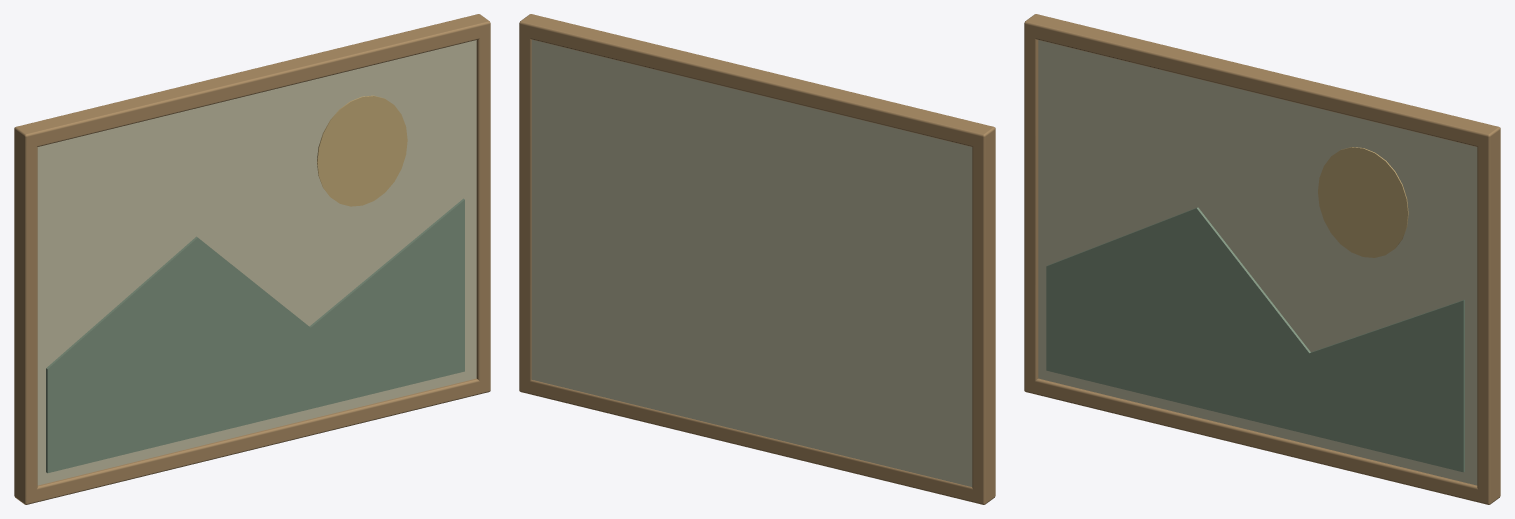
File: frame.glb
The picture shows the model from 3 angles, left to right: view 1: azimuth 30°, elevation 25°; view 2: azimuth 150°, elevation 25°; view 3: azimuth 330°, elevation 25°; orthographic projection.
Visible parts, largest first — view 1: picture-frame-inset, painted-hills, picture-frame-rail-1, picture-frame-stile--1, picture-frame-rail--1, painted-sun, picture-frame-stile-1; view 2: picture-frame-inset, picture-frame-rail-1, picture-frame-stile--1, picture-frame-rail--1, picture-frame-stile-1; view 3: picture-frame-inset, painted-hills, picture-frame-rail-1, picture-frame-stile-1, picture-frame-rail--1, painted-sun, picture-frame-stile--1.
Boxes of the visible parts, x1,y1,x2,y2 form: picture-frame-inset: (37, 40, 476, 485); painted-hills: (46, 198, 464, 473); picture-frame-rail-1: (14, 14, 489, 147); picture-frame-stile--1: (14, 124, 37, 504); picture-frame-rail--1: (14, 378, 490, 504); painted-sun: (317, 95, 407, 206); picture-frame-stile-1: (476, 14, 490, 393); picture-frame-inset: (531, 39, 972, 486); picture-frame-rail-1: (520, 14, 995, 147); picture-frame-stile--1: (972, 124, 995, 504); picture-frame-rail--1: (519, 379, 995, 503); picture-frame-stile-1: (519, 14, 538, 393); picture-frame-inset: (1038, 40, 1477, 485); painted-hills: (1046, 207, 1464, 472); picture-frame-rail-1: (1025, 14, 1500, 147); picture-frame-stile-1: (1477, 124, 1500, 504); picture-frame-rail--1: (1024, 378, 1500, 504); painted-sun: (1318, 147, 1408, 257); picture-frame-stile--1: (1024, 14, 1043, 393).
Bounding box in the file's own units: 1.24 × 0.9428 × 0.055.
